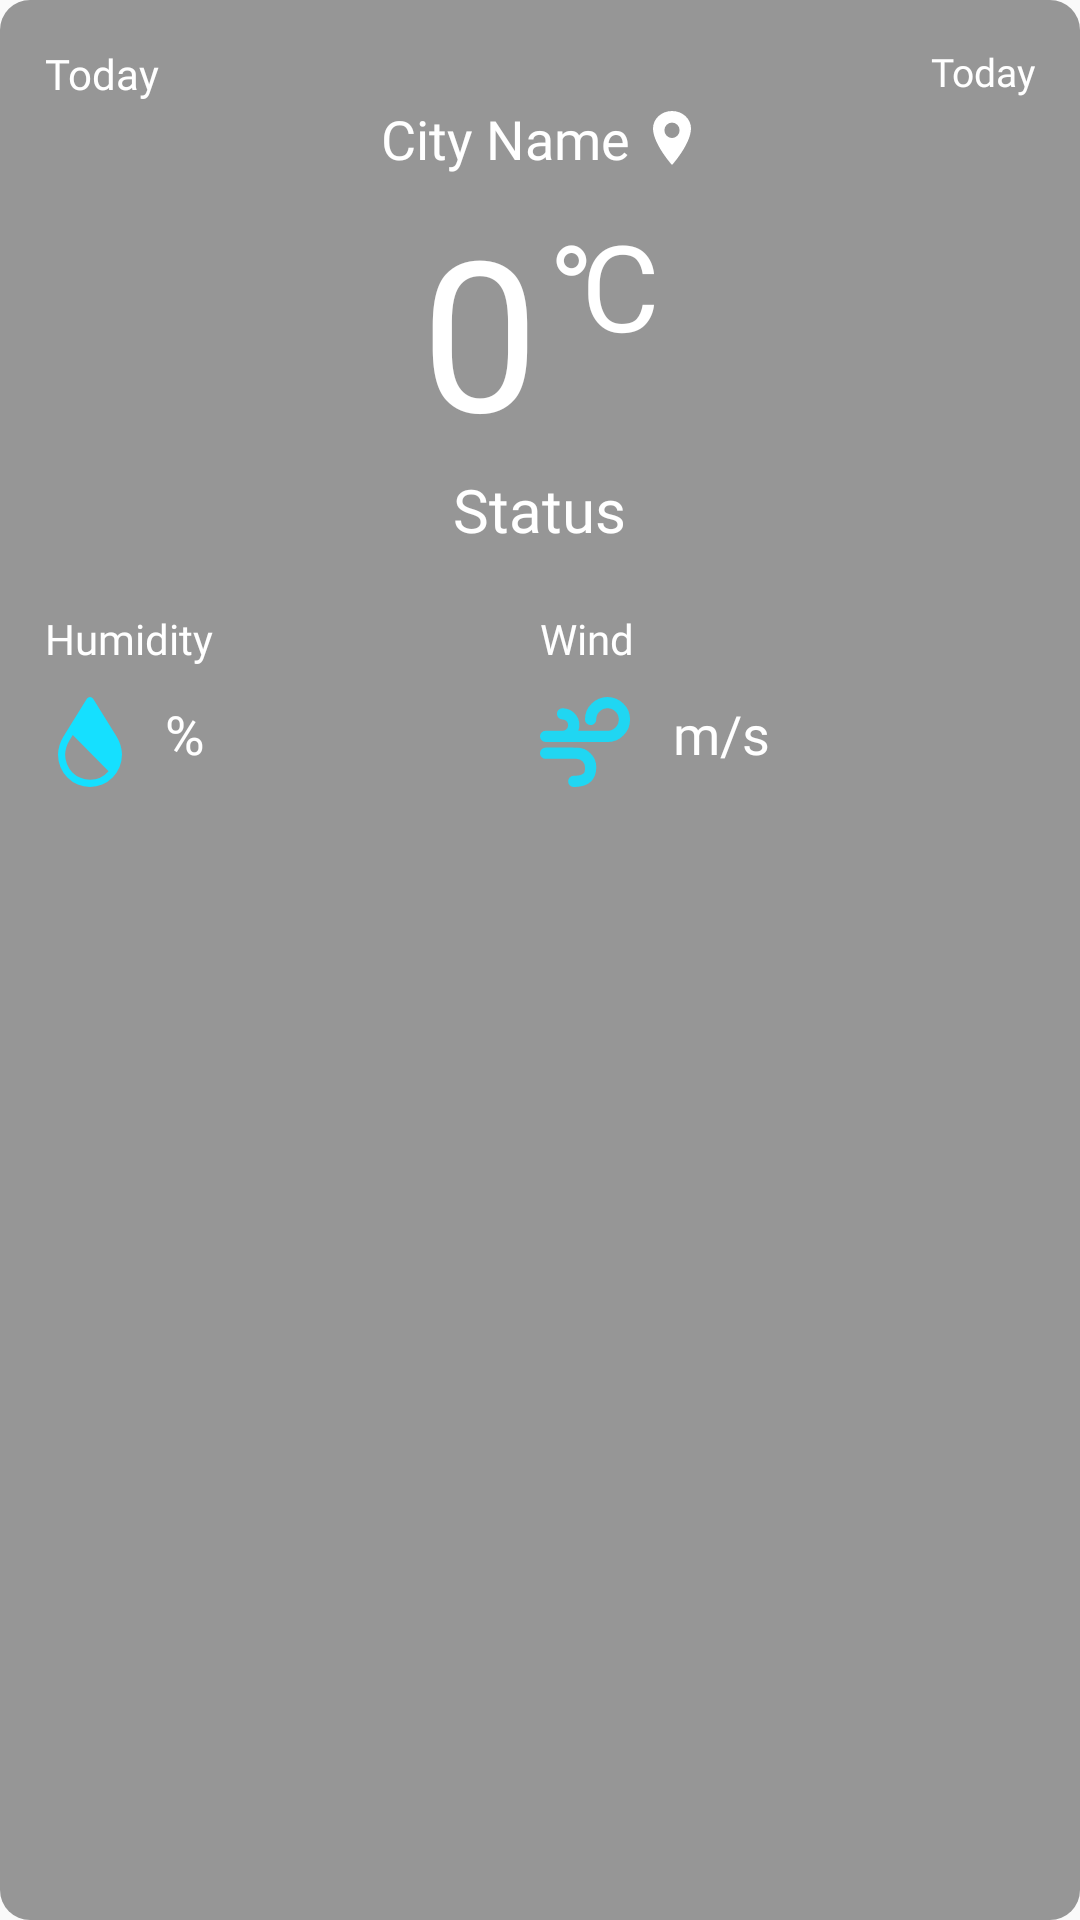

Screen size 1080×1920. Icon name, then its box in pixels as (x1, y1, x2, y2):
location: (653, 111, 691, 165)
